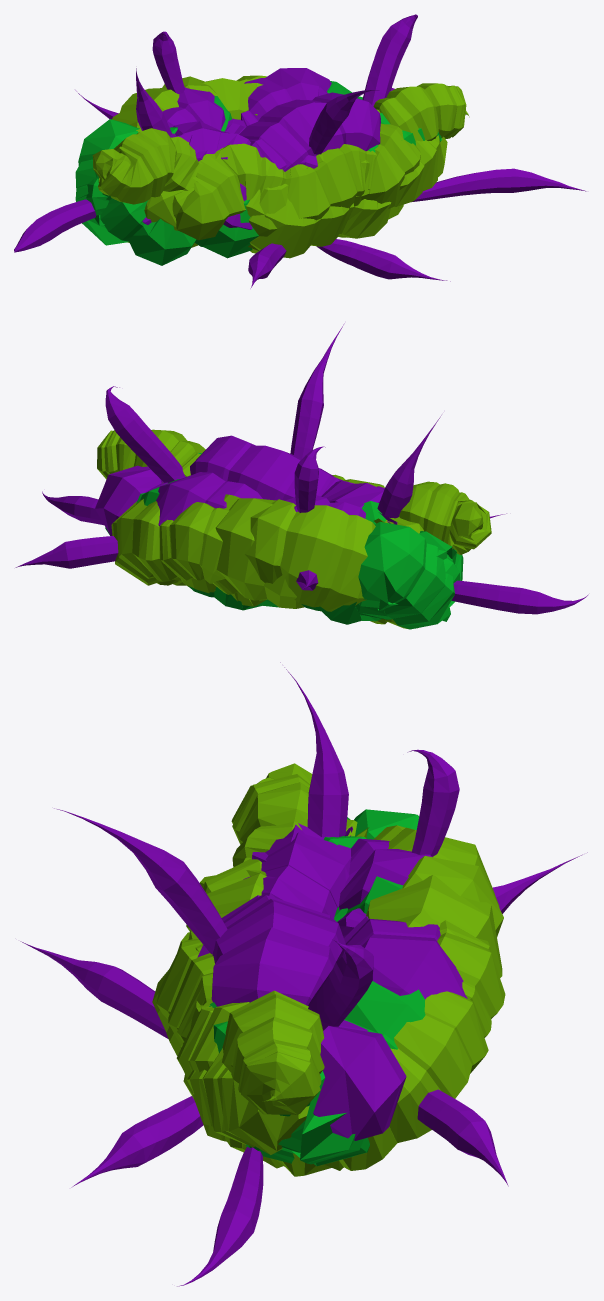
File: PlusAnimFbx_Floor.fbx
3 views of the same model, one above another, from view 1: azimuth 30°, elevation 25°; view 2: azimuth 150°, elevation 25°; view 3: azimuth 270°, elevation 25° (orthographic). The views are drawn at different scales.
Parts seen in each view (by area): view 1: Floor; view 2: Floor; view 3: Floor.
Boxes of the visible parts, left/top/right/bottom form: Floor: left=14, top=14, right=586, bottom=288; Floor: left=15, top=323, right=588, bottom=629; Floor: left=20, top=662, right=587, bottom=1286.
Size of the model in its own units: 1.05 by 0.4239 by 0.626.
